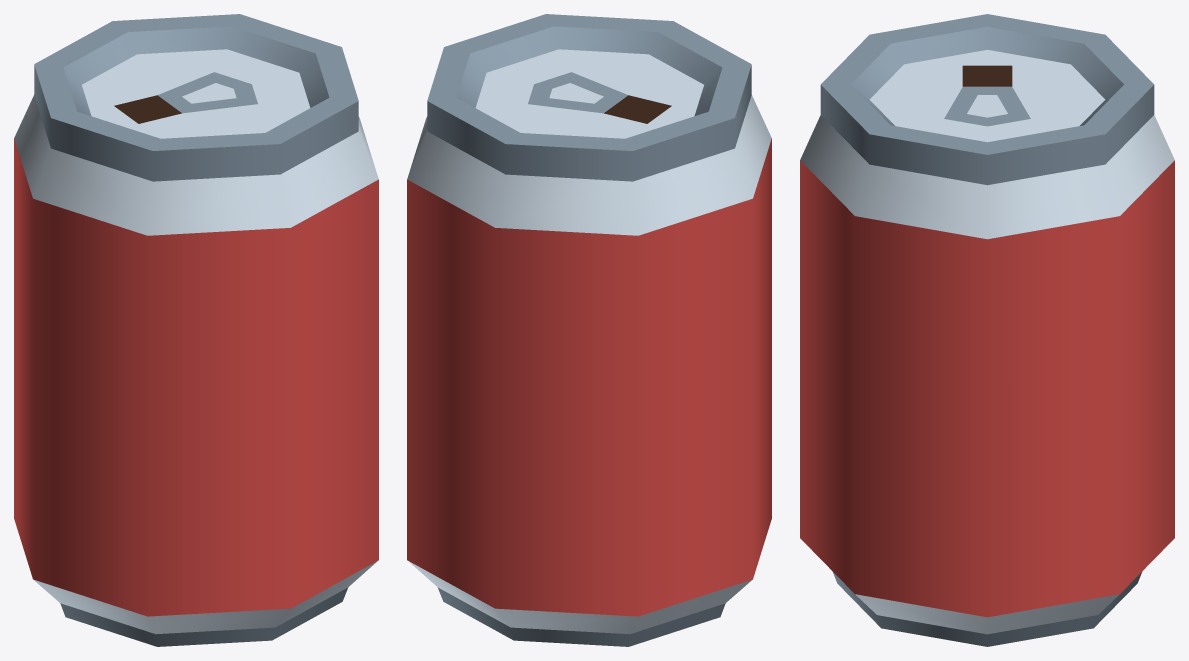
Rendered from SodaCan.glb.
3 views of the same model, side by side, from view 1: azimuth 30°, elevation 25°; view 2: azimuth 150°, elevation 25°; view 3: azimuth 270°, elevation 25° (orthographic).
Visible parts, largest first — view 1: sodaCan; view 2: sodaCan; view 3: sodaCan.
Part boxes in pixels (x1,y1,x2,y2): sodaCan: [14, 14, 378, 646]; sodaCan: [407, 14, 771, 646]; sodaCan: [800, 14, 1174, 646].
Bounding box in the file's own units: 3.1 × 4.56 × 3.1.
